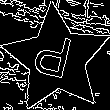P_S: (33, 30, 80, 88)
